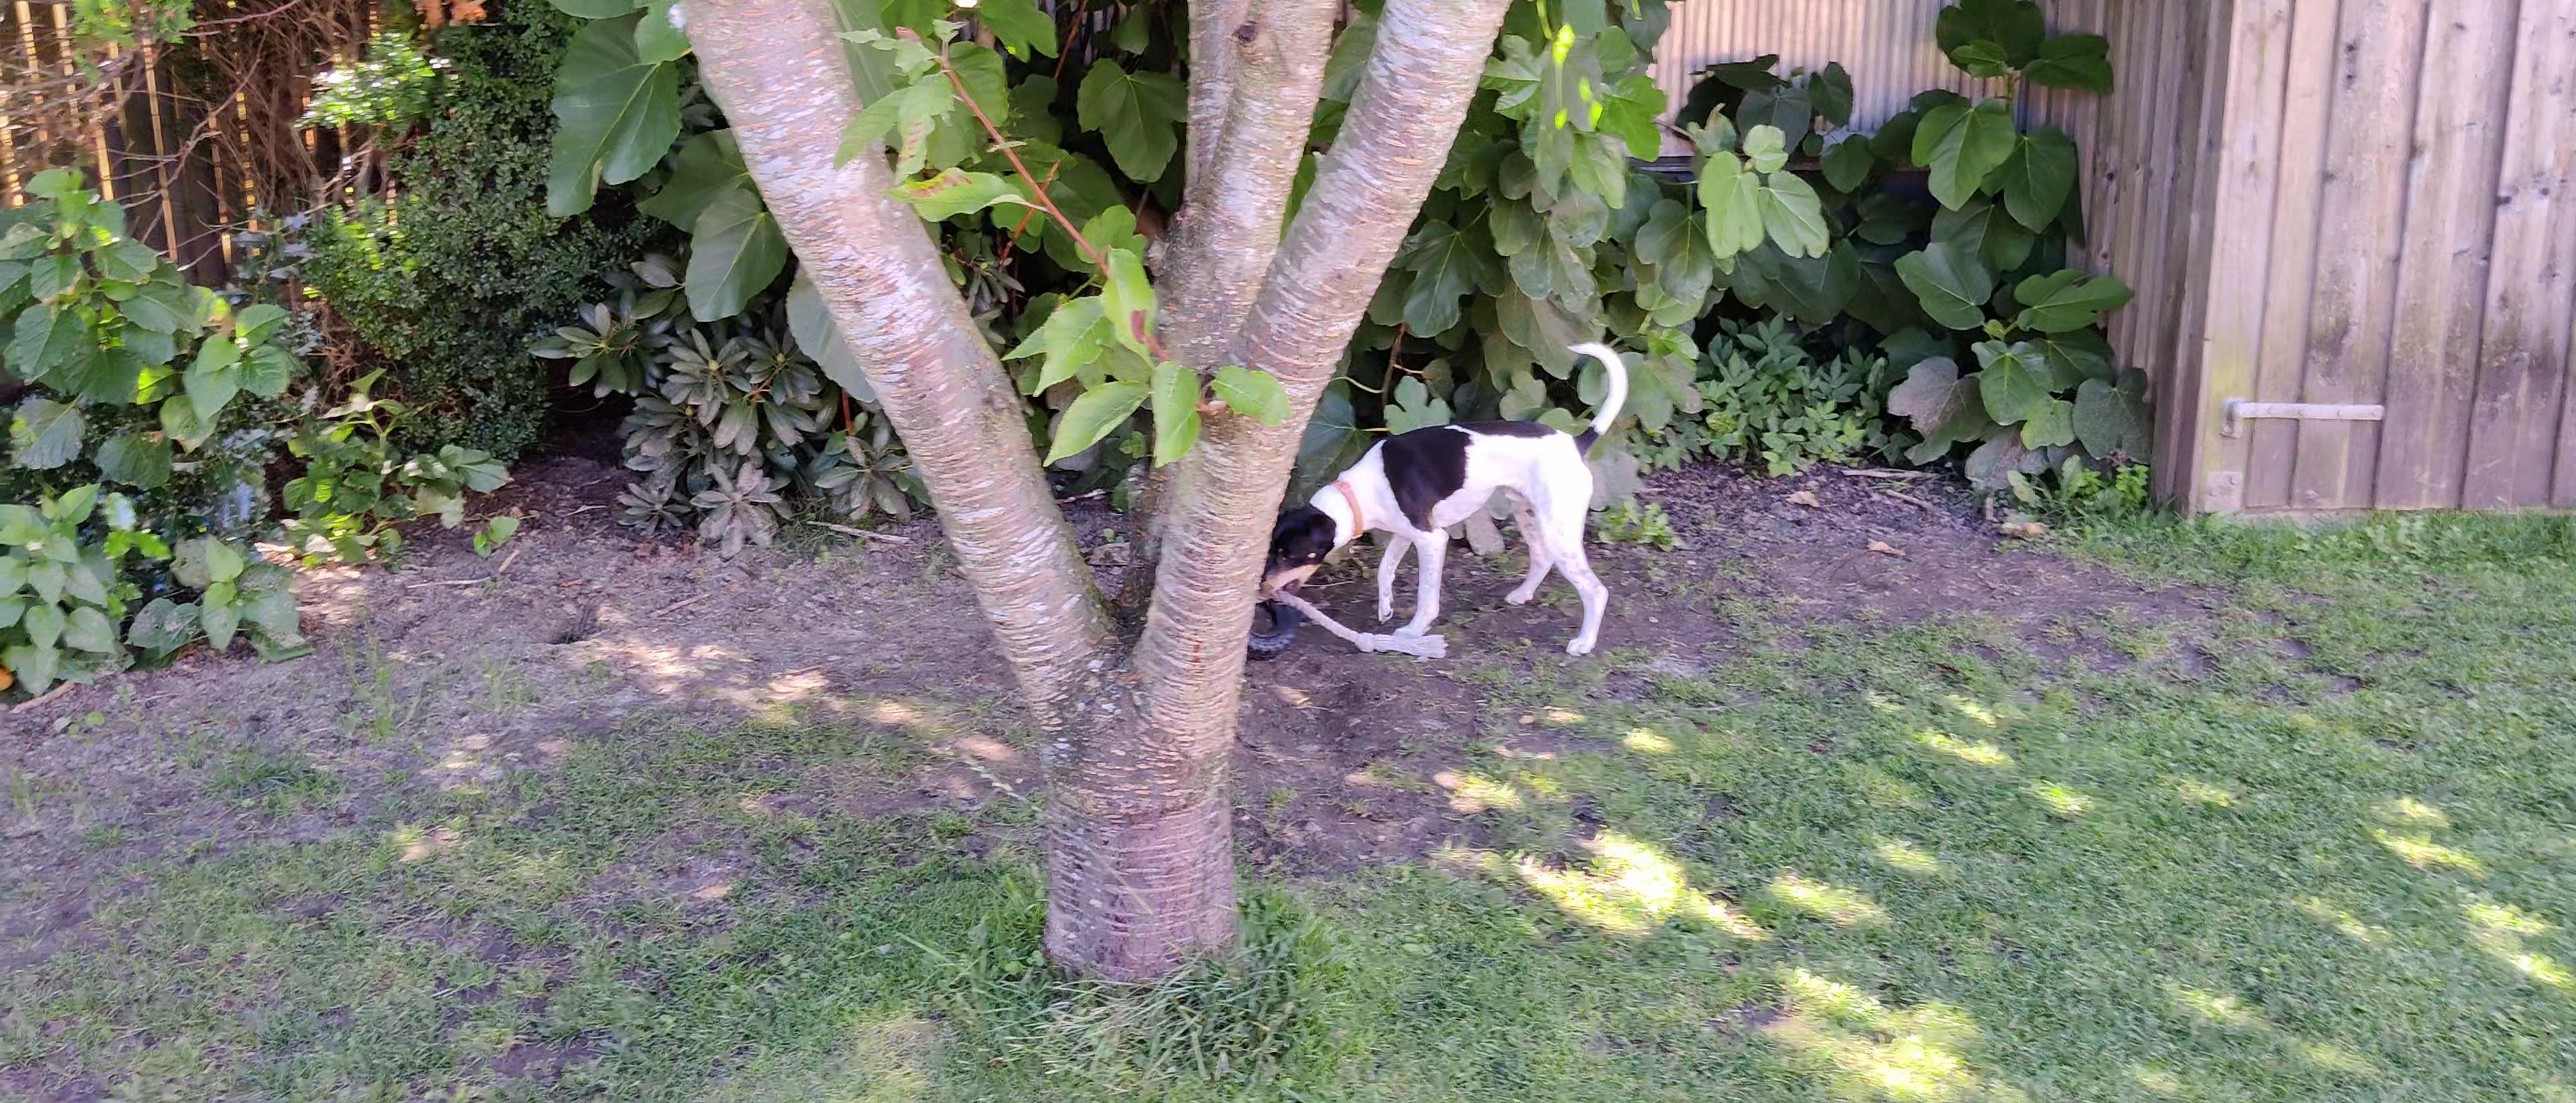Dog: (1255, 337, 1631, 658)
